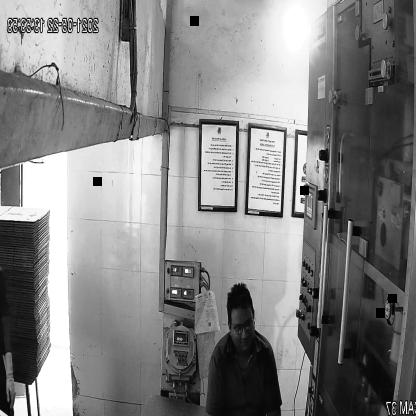goggles: (226, 310, 260, 338)
